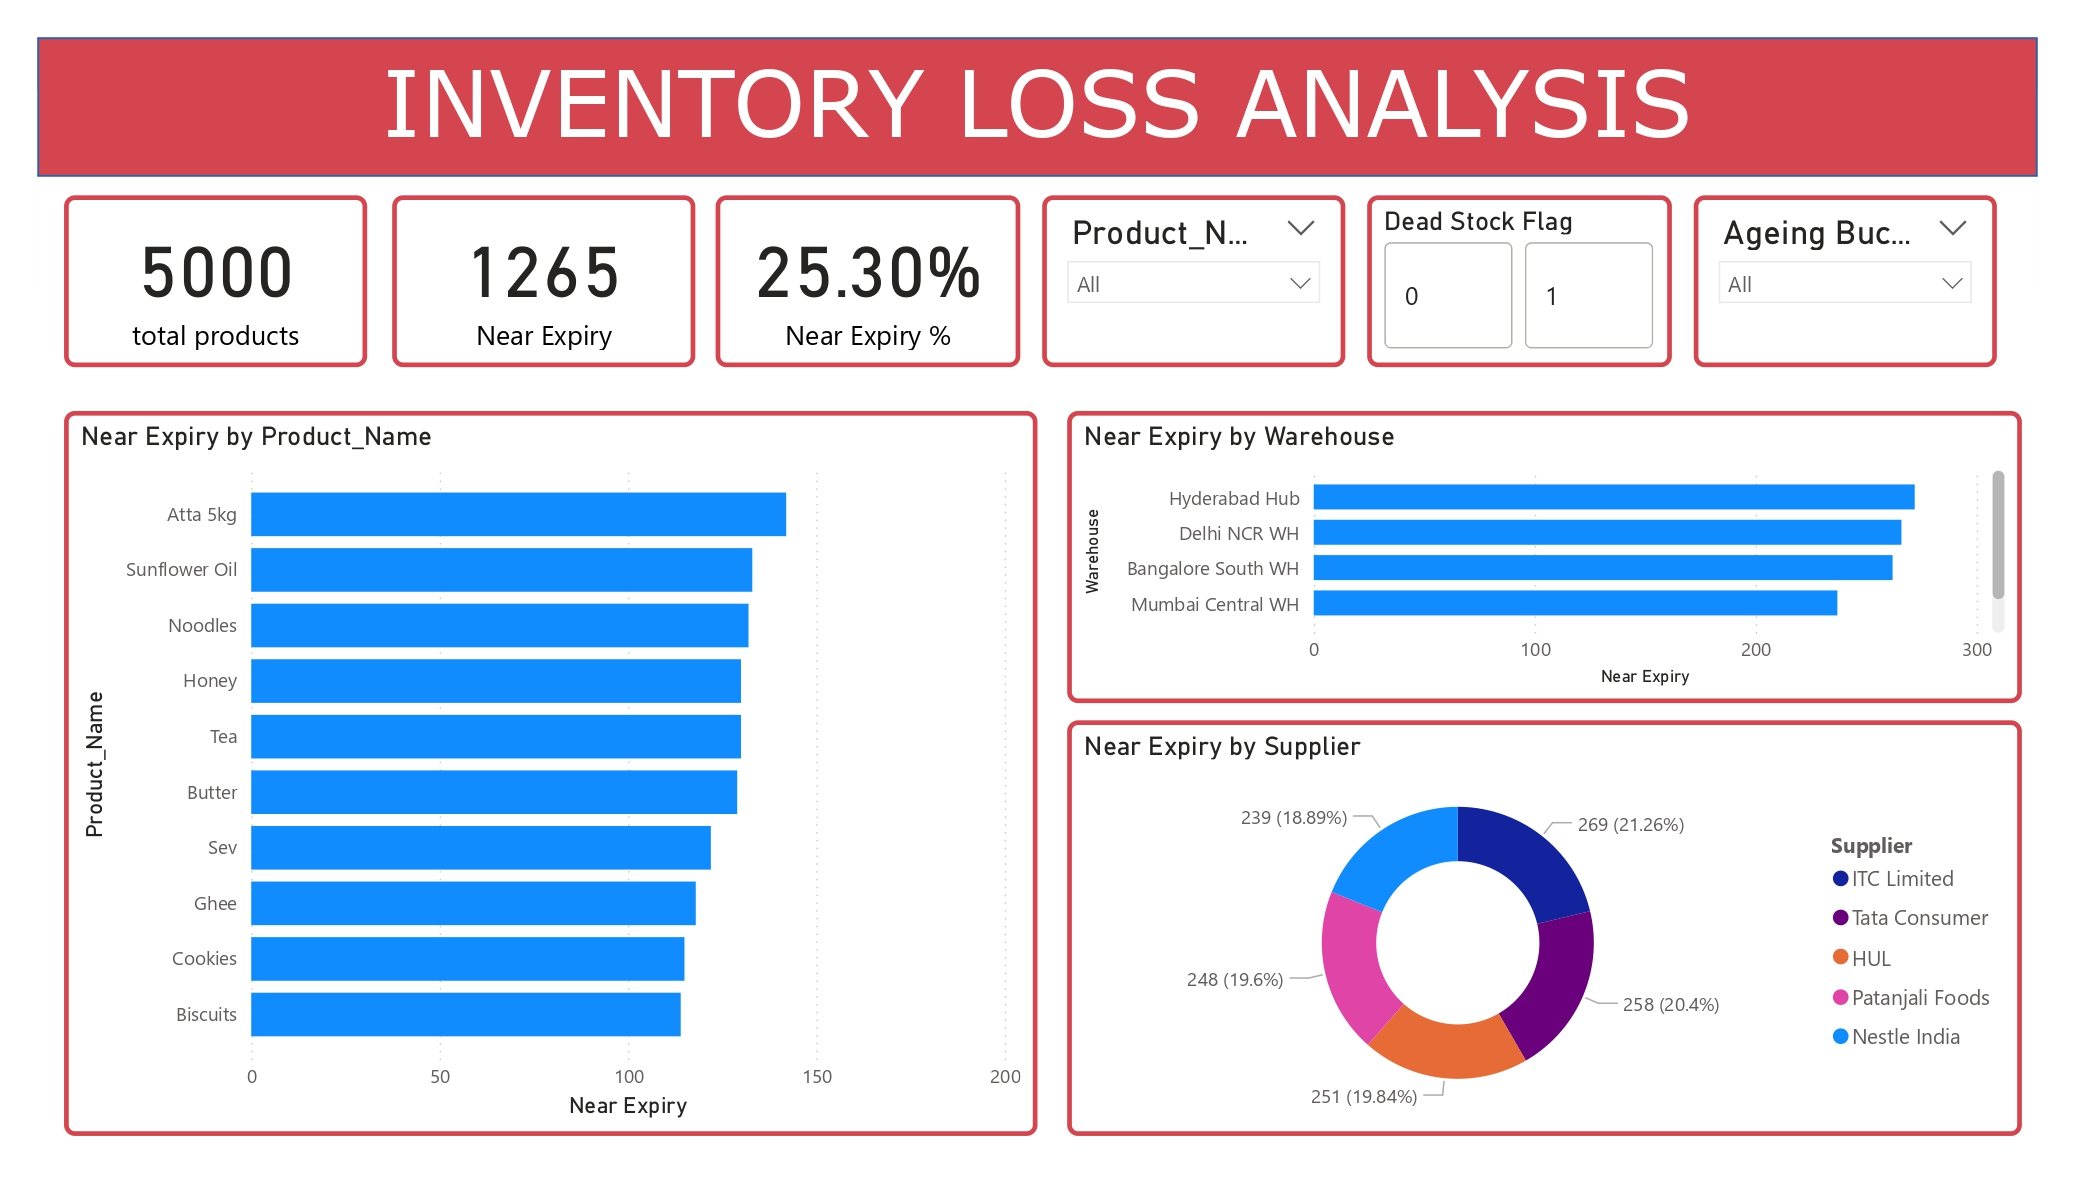

This screenshot's page, from the dashboard's own definition file:
{"tool":"powerbi","page":{"name":"Near Expiry","canvas":[1280,720],"ordinal":2},"visuals":[{"type":"shape","box":[0,0,1280,88.6],"z":0},{"type":"textbox","box":[0,0,1279.7,81.9],"z":1000},{"type":"card","fields":{"Values":["Dead_Stock_Inventory_Dataset.total products"]},"box":[17.1,101.4,194.3,110],"z":2000},{"type":"card","fields":{"Values":["Dead_Stock_Inventory_Dataset.Near Expiry"]},"box":[227.1,101.4,194.3,110],"z":3000},{"type":"card","fields":{"Values":["Dead_Stock_Inventory_Dataset.Near Expiry %"]},"box":[434.3,101.4,194.3,110],"z":4000},{"type":"clusteredBarChart","fields":{"Category":["Products.Product_Name"],"Y":["Dead_Stock_Inventory_Dataset.Near Expiry"]},"box":[17.1,238.6,622.9,464.3],"z":5000},{"type":"slicer","fields":{"Values":["Products.Product_Name"]},"box":[642.9,101.2,194.1,110],"z":6000},{"type":"donutChart","fields":{"Category":["Supplier.Supplier"],"Y":["Dead_Stock_Inventory_Dataset.Near Expiry"]},"box":[658.6,437.1,611.4,265.7],"z":7000},{"type":"clusteredBarChart","fields":{"Category":["Warehouse.Warehouse"],"Y":["Dead_Stock_Inventory_Dataset.Near Expiry"]},"box":[658.6,238.6,611.4,187.1],"z":8000},{"type":"advancedSlicerVisual","fields":{"Values":["Dead_Stock_Inventory_Dataset.Dead Stock Flag"]},"box":[851.4,101.4,194.3,110],"z":9000},{"type":"slicer","fields":{"Values":["Dead_Stock_Inventory_Dataset.Ageing Bucket"]},"box":[1060,101.4,194.3,110],"z":10000}]}

Visuals, with their boxes in screenshot pixels (x1, y1, x2, y2):
shape: <box>38,32,2012,169</box>
textbox: <box>38,32,2011,159</box>
card - Dead_Stock_Inventory_Dataset.total products: <box>64,189,364,358</box>
card - Dead_Stock_Inventory_Dataset.Near Expiry: <box>388,189,688,358</box>
card - Dead_Stock_Inventory_Dataset.Near Expiry %: <box>708,189,1007,358</box>
clusteredBarChart - Products.Product_Name x Dead_Stock_Inventory_Dataset.Near Expiry: <box>64,400,1025,1116</box>
slicer - Products.Product_Name: <box>1029,188,1328,358</box>
donutChart - Supplier.Supplier x Dead_Stock_Inventory_Dataset.Near Expiry: <box>1053,706,1996,1116</box>
clusteredBarChart - Warehouse.Warehouse x Dead_Stock_Inventory_Dataset.Near Expiry: <box>1053,400,1996,689</box>
advancedSlicerVisual - Dead_Stock_Inventory_Dataset.Dead Stock Flag: <box>1351,189,1650,358</box>
slicer - Dead_Stock_Inventory_Dataset.Ageing Bucket: <box>1672,189,1972,358</box>
